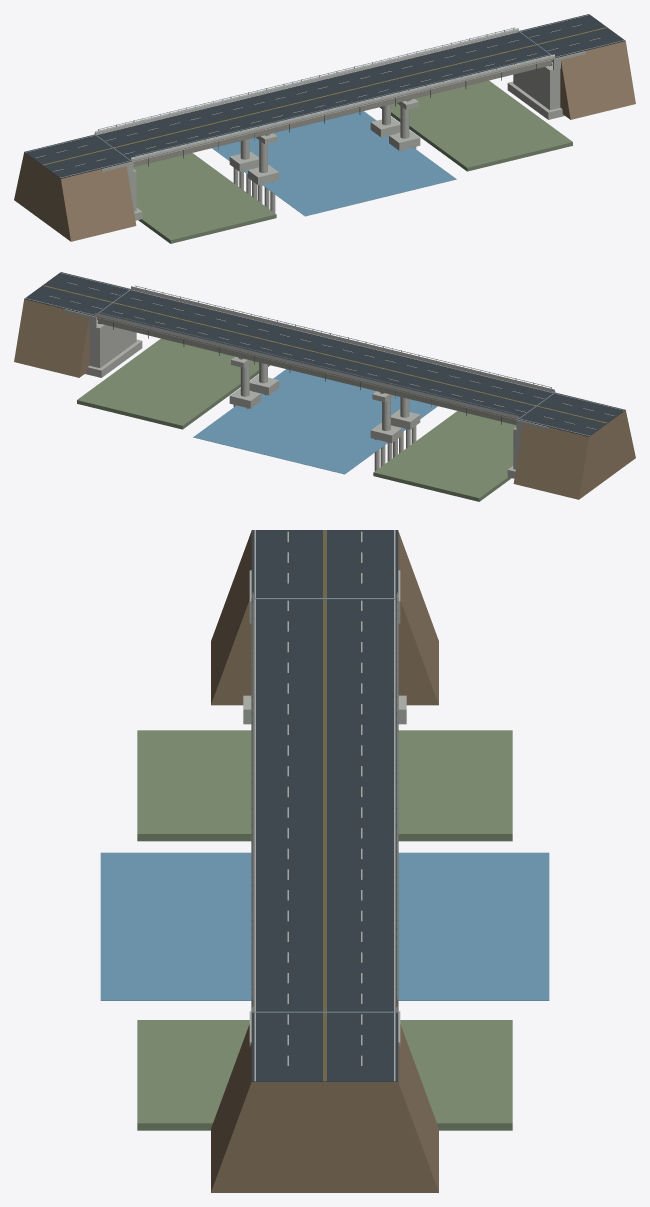
File: bridge.glb
3 views of the same model, one above another, from view 1: azimuth 30°, elevation 25°; view 2: azimuth 150°, elevation 25°; view 3: azimuth 270°, elevation 25° (orthographic). The views are drawn at different scales.
Parts seen in each view (by area): view 1: 沥青铺装 / 80 mm (×3), 河岸剖切地层 (×2), 河道水面 / 基础展示剖切, 引道路基与放坡 (×2), 混凝土防撞护栏 (×2), 连续防护横梁 (×4), 重力式桥台, 2号墩承台 (×2), 1号墩承台 (×2), 第2跨 R幅箱梁 web-r, 第3跨 R幅箱梁 web-r, 中心双黄线 (×2) (+3 smaller); view 2: 沥青铺装 / 80 mm (×3), 河岸剖切地层 (×2), 河道水面 / 基础展示剖切, 引道路基与放坡 (×2), 混凝土防撞护栏 (×2), 重力式桥台, 连续防护横梁 (×2), 2号墩承台 (×2), 1号墩承台 (×2), 第2跨 L幅箱梁 web-l, 第3跨 L幅箱梁 web-l, 中心双黄线 (×2) (+3 smaller); view 3: 沥青铺装 / 80 mm (×3), 河岸剖切地层 (×2), 河道水面 / 基础展示剖切, 引道路基与放坡 (×2), 混凝土防撞护栏 (×2).
Boxes of the visible parts, <box> form: 沥青铺装 / 80 mm (×3): <box>24,14,625,178</box>; 河岸剖切地层 (×2): <box>133,80,572,243</box>; 河道水面 / 基础展示剖切: <box>212,111,456,216</box>; 引道路基与放坡 (×2): <box>14,41,635,241</box>; 混凝土防撞护栏 (×2): <box>94,28,555,161</box>; 连续防护横梁 (×4): <box>99,27,551,157</box>; 重力式桥台: <box>513,62,560,109</box>; 2号墩承台 (×2): <box>370,117,420,150</box>; 1号墩承台 (×2): <box>229,151,279,185</box>; 第2跨 R幅箱梁 web-r: <box>269,94,411,132</box>; 第3跨 R幅箱梁 web-r: <box>410,60,552,98</box>; 中心双黄线 (×2): <box>114,45,535,147</box>; 沥青铺装 / 80 mm (×3): <box>24,272,625,436</box>; 河岸剖切地层 (×2): <box>77,338,516,501</box>; 河道水面 / 基础展示剖切: <box>193,369,437,474</box>; 引道路基与放坡 (×2): <box>14,299,635,499</box>; 混凝土防撞护栏 (×2): <box>94,286,555,419</box>; 重力式桥台: <box>89,320,136,367</box>; 连续防护横梁 (×2): <box>98,285,550,413</box>; 2号墩承台 (×2): <box>229,375,279,408</box>; 1号墩承台 (×2): <box>370,409,420,443</box>; 第2跨 L幅箱梁 web-l: <box>238,352,380,390</box>; 第3跨 L幅箱梁 web-l: <box>97,318,239,356</box>; 中心双黄线 (×2): <box>114,303,535,405</box>; 沥青铺装 / 80 mm (×3): <box>251,530,398,1081</box>; 河岸剖切地层 (×2): <box>137,730,512,1130</box>; 河道水面 / 基础展示剖切: <box>100,852,549,1000</box>; 引道路基与放坡 (×2): <box>211,531,438,1192</box>; 混凝土防撞护栏 (×2): <box>251,592,398,1012</box>.
Bounding box in the file's own units: 160 × 27.45 × 55.
